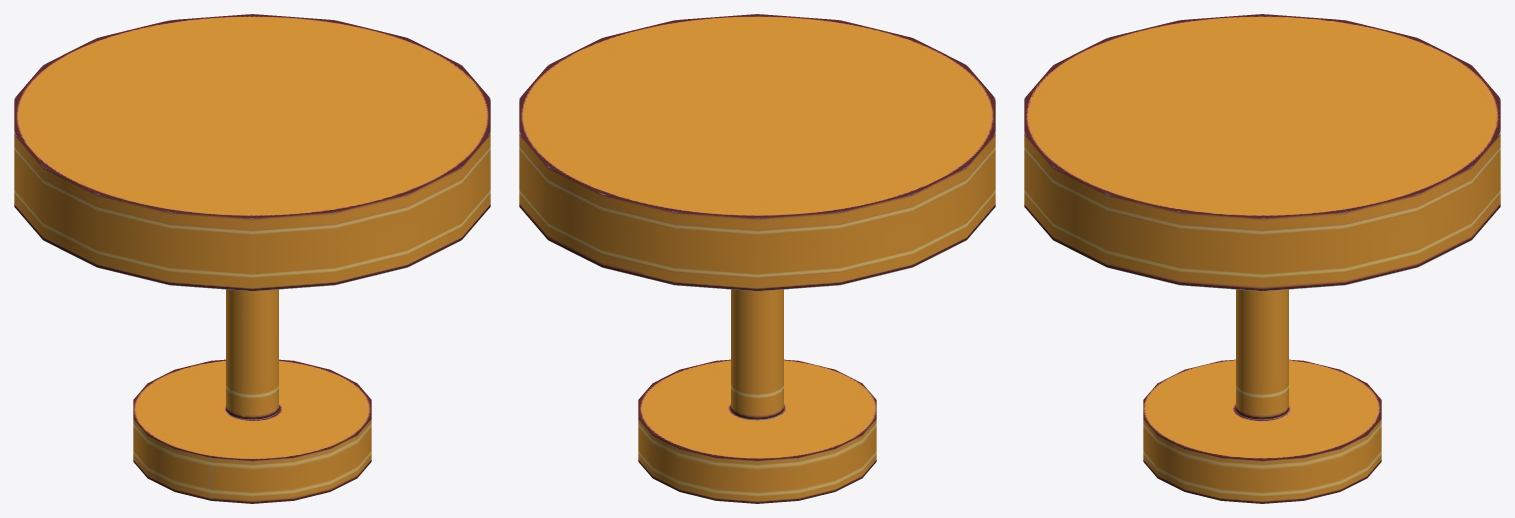
The model's file is Dream(2)_Table.fbx.
3 views of the same model, side by side, from view 1: azimuth 30°, elevation 25°; view 2: azimuth 150°, elevation 25°; view 3: azimuth 270°, elevation 25° (orthographic).
Parts seen in each view (by area): view 1: Cylinder001; view 2: Cylinder001; view 3: Cylinder001.
Part boxes in pixels (x1,y1,x2,y2): Cylinder001: (14, 14, 490, 503); Cylinder001: (519, 14, 995, 503); Cylinder001: (1024, 14, 1500, 503).
Bounding box in the file's own units: 59.87 × 46 × 58.96.
1 material, 1 textured.
